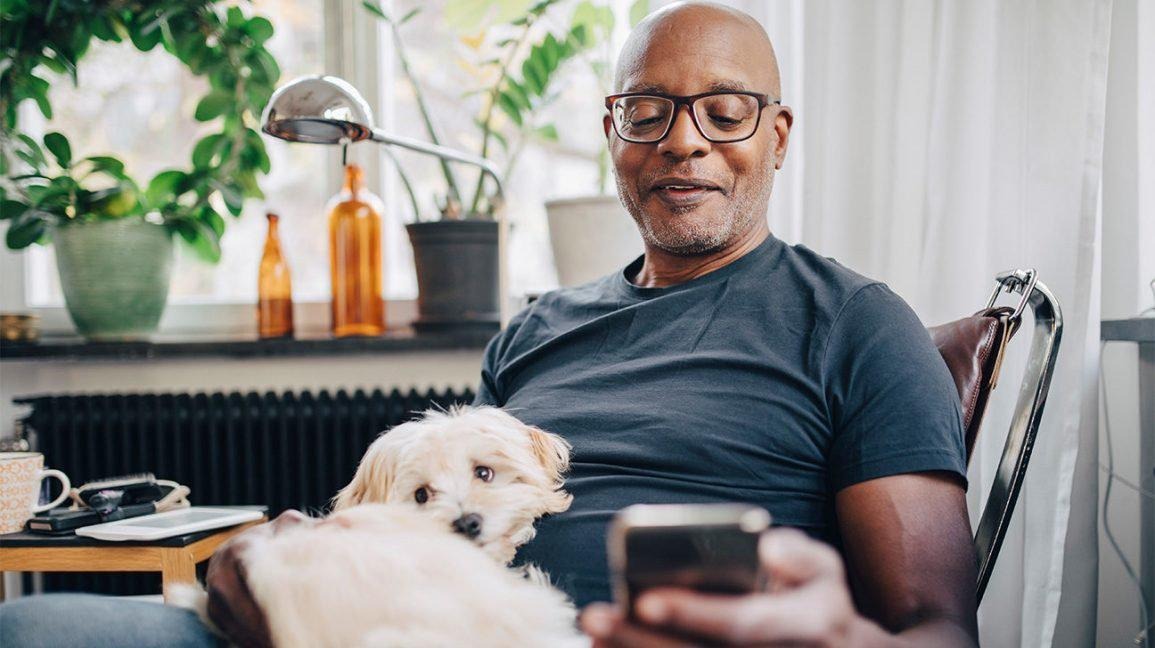Sober: (623, 37, 758, 238)
